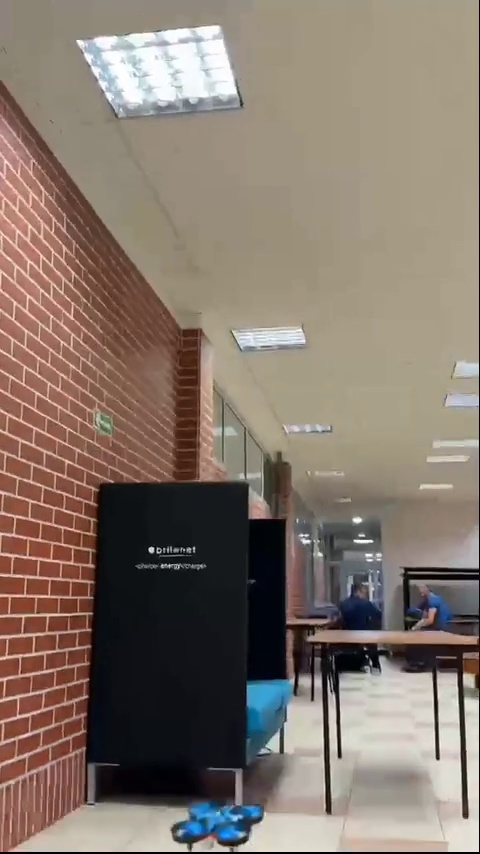drone: (181, 797, 260, 849)
no vest: (405, 580, 453, 646), (339, 587, 375, 653)
